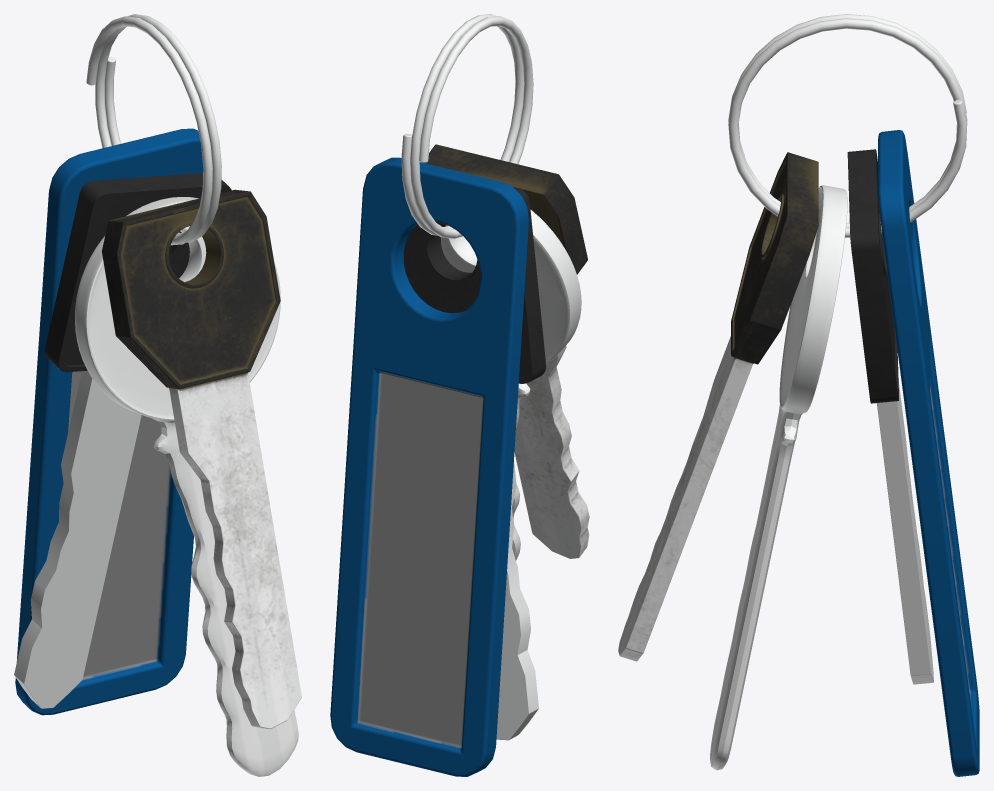
File: keys.glb
3 views of the same model, side by side, from view 1: azimuth 30°, elevation 25°; view 2: azimuth 150°, elevation 25°; view 3: azimuth 270°, elevation 25° (orthographic). The views are drawn at different scales.
Parts seen in each view (by area): view 1: key_2, name, Key_3, Key_1, ring; view 2: name, key_2, Key_3, ring, Key_1; view 3: name, key_2, Key_1, Key_3, ring.
Boxes of the visible parts, <box> form: key_2: <box>102,189,301,729</box>; name: <box>15,128,203,715</box>; Key_3: <box>14,173,231,708</box>; Key_1: <box>75,197,298,776</box>; ring: <box>86,14,221,245</box>; name: <box>330,157,528,776</box>; key_2: <box>423,144,589,558</box>; Key_3: <box>403,188,546,740</box>; ring: <box>401,14,533,238</box>; Key_1: <box>441,209,581,560</box>; name: <box>878,130,979,776</box>; key_2: <box>618,152,818,661</box>; Key_1: <box>710,185,847,770</box>; Key_3: <box>847,149,933,684</box>; ring: <box>728,14,967,237</box>.
Bounding box in the file's own units: 208 × 703 × 316.
5 materials, 5 textured.
